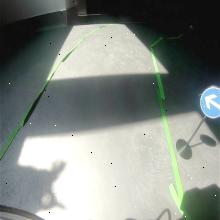left: (199, 85, 220, 119)
